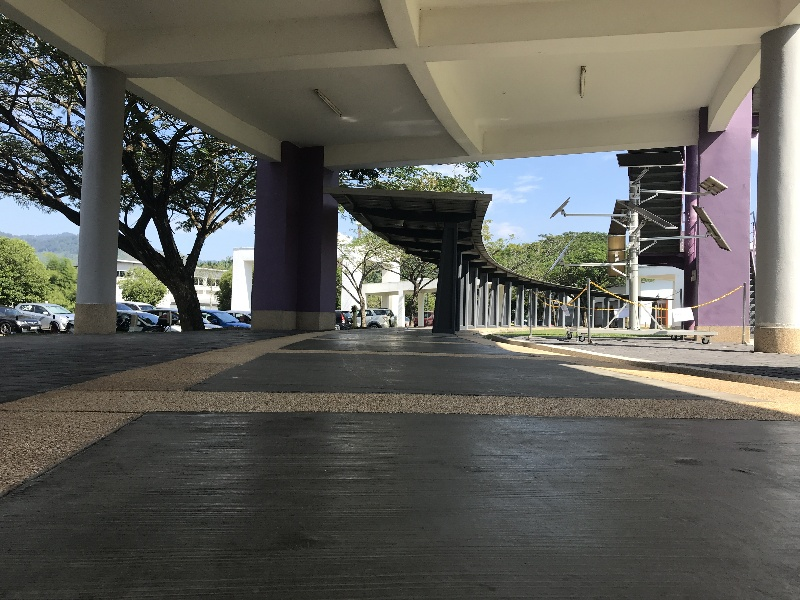Block D corridor: (9, 8, 793, 598)
pillar: (246, 137, 342, 335), (70, 62, 135, 342), (750, 19, 799, 378), (701, 101, 745, 349), (432, 217, 461, 337)
